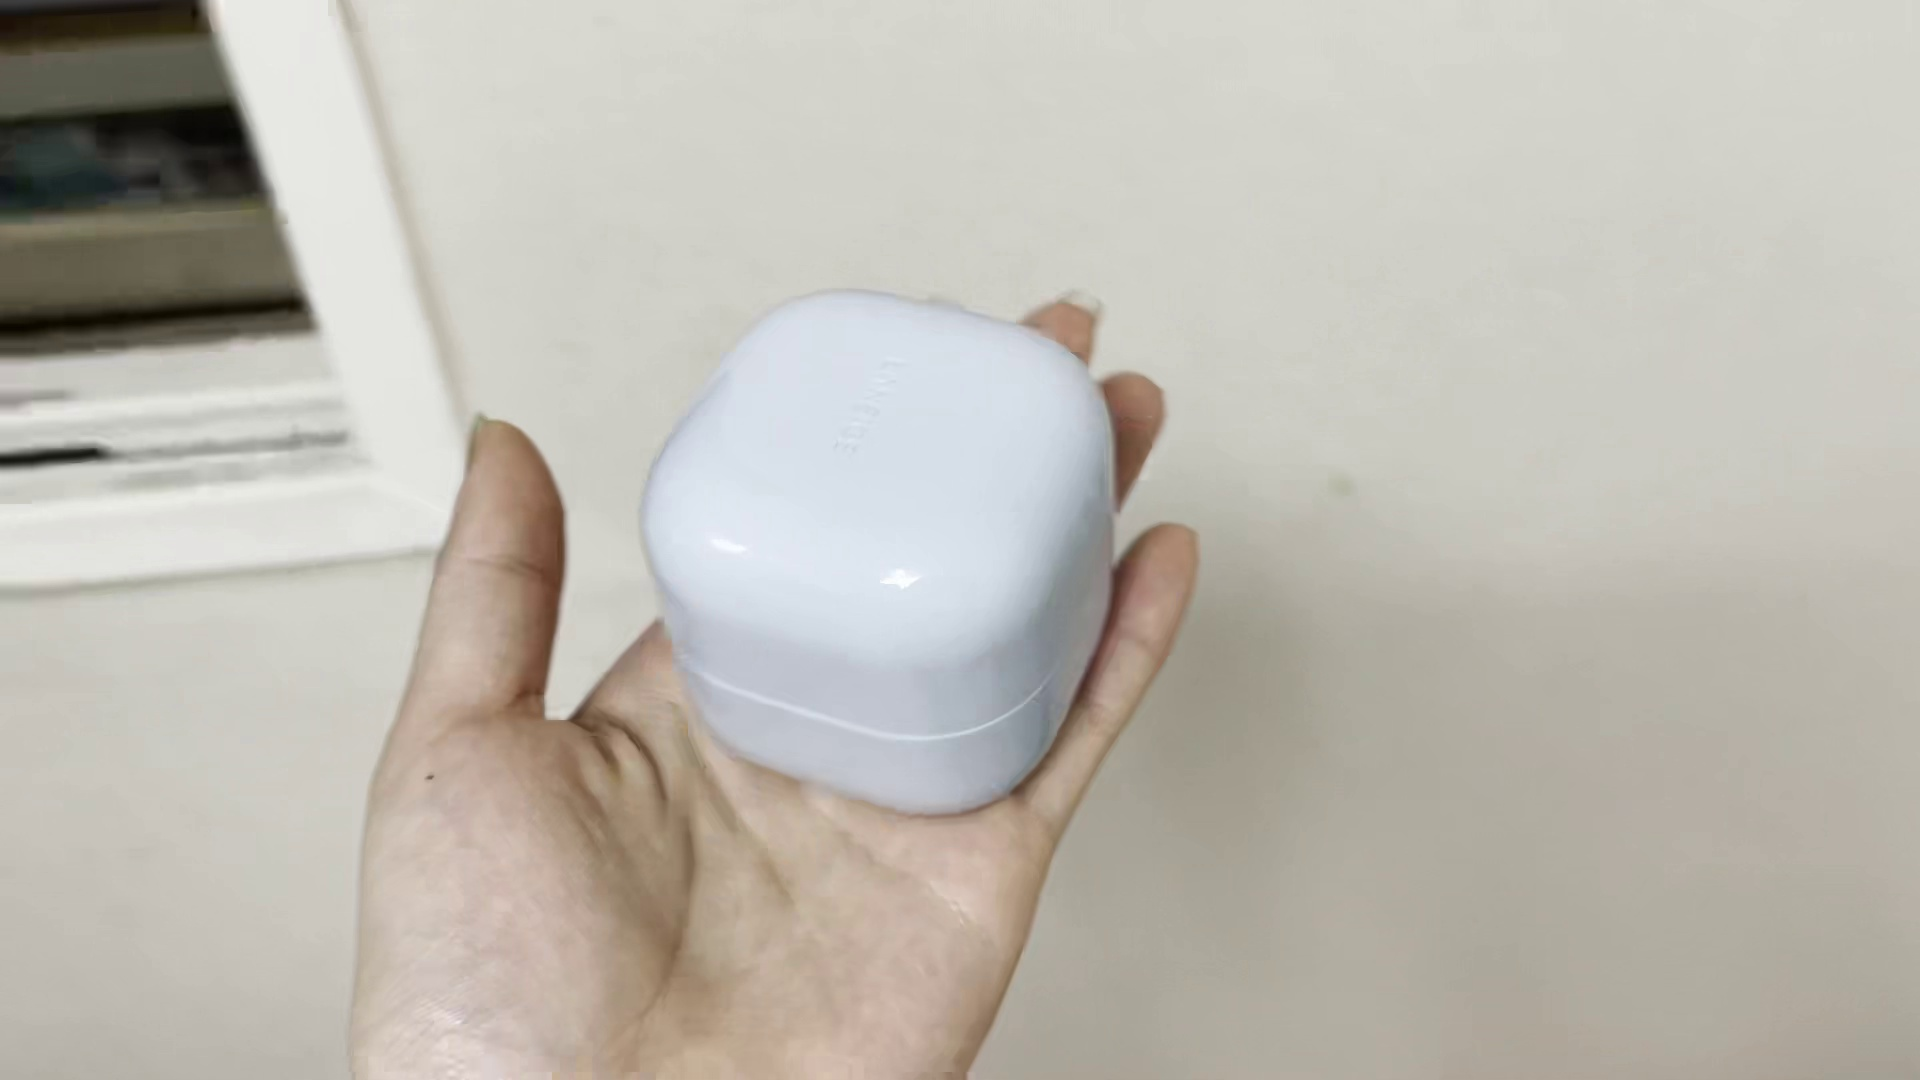cream: (650, 287, 1114, 811)
